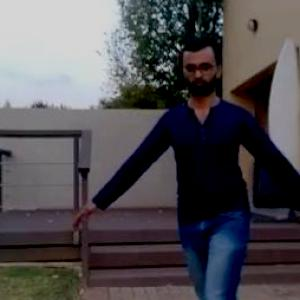land: (85, 38, 299, 299)
